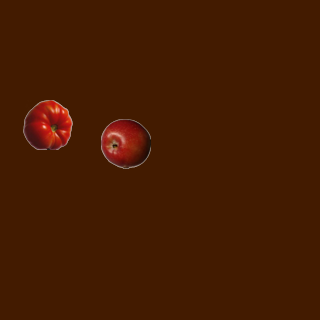Apple Braeburn: (100, 118, 150, 168)
Tomato 3: (22, 99, 72, 149)
